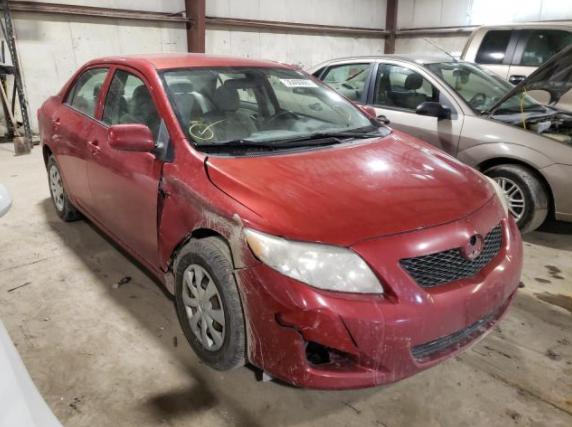Back-door: (52, 63, 115, 213)
Back-wheel: (46, 154, 88, 223)
Back-window: (73, 68, 110, 118), (65, 83, 77, 105)
Fender: (156, 136, 280, 273)
Front-bumper: (234, 193, 523, 393)
Front-door: (85, 64, 171, 268)
Front-wheel: (173, 237, 250, 373)
Front-window: (101, 70, 161, 143)
Grille: (400, 223, 502, 289)
Headlight: (242, 227, 385, 294), (487, 175, 509, 220)
Hood: (205, 127, 497, 249)
Mirror: (107, 117, 171, 161), (359, 104, 378, 119)
Quarter-panel: (37, 95, 72, 200)
Rocker-panel: (69, 196, 176, 296)
Roof: (120, 52, 298, 69)
Windshield: (157, 65, 379, 154)
